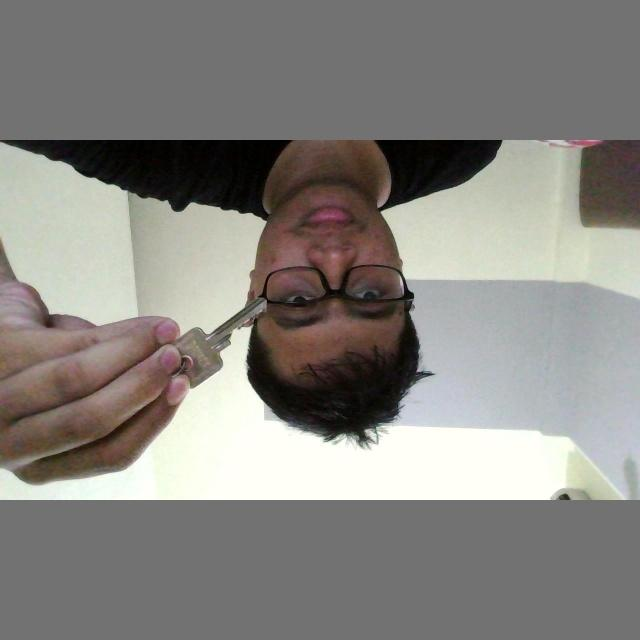Keys: (165, 292, 272, 400)
